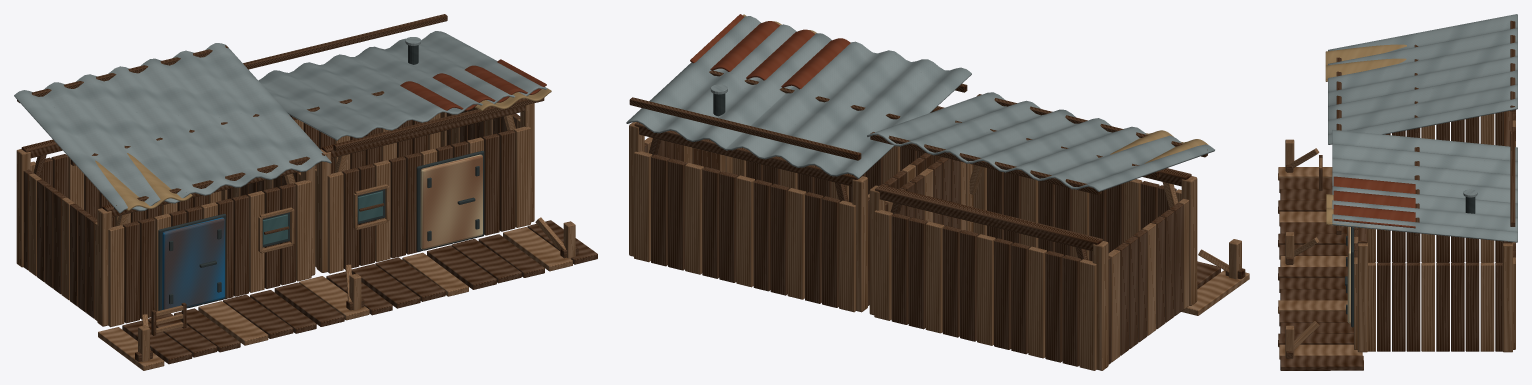
Rendered from scavenger_housing.glb.
3 renders of one model, left to right at view 1: azimuth 30°, elevation 25°; view 2: azimuth 150°, elevation 25°; view 3: azimuth 270°, elevation 25°, orthographic. The views are drawn at different scales.
Parts seen in each view (by area): view 1: Left cottage tall asymmetric sheet canopy, Right cottage low patched lean-to, Broad salvaged appliance door slab.001, Broad salvaged appliance door slab, Right cottage enamel roof patch, Cottage front reclaimed vertical board.024, Roof purlin beneath sheet overlap.005, Cottage front reclaimed vertical board, Cottage front reclaimed vertical board.013, Cottage front reclaimed vertical board.023, Cottage front reclaimed vertical board.008, Cottage front reclaimed vertical board.012 (+59 smaller); view 2: Right cottage low patched lean-to, Left cottage tall asymmetric sheet canopy, Right cottage enamel roof patch, Cottage wall header.001, Roof purlin beneath sheet overlap.005, Cottage wall header.003, Cottage rear reclaimed vertical board.004, Cottage rear reclaimed vertical board.009, Cottage rear reclaimed vertical board.011, Cottage rear reclaimed vertical board.017, Cottage rear reclaimed vertical board.020, Cottage rear reclaimed vertical board.018 (+52 smaller); view 3: Left cottage tall asymmetric sheet canopy, Right cottage low patched lean-to, Right cottage enamel roof patch, Left cottage faded canvas roof repair, Cottage side reclaimed vertical board.033, Cottage side reclaimed vertical board.037, Cottage side reclaimed vertical board.038, Shared porch reclaimed deck board.017, Cottage side reclaimed vertical board.034, Cottage side reclaimed vertical board.031, Cottage side reclaimed vertical board.032, Cottage side reclaimed vertical board.035 (+50 smaller).
Boxes of the visible parts, bbox=[...] form: Left cottage tall asymmetric sheet canopy: bbox=[14, 43, 331, 213]; Right cottage low patched lean-to: bbox=[258, 31, 547, 140]; Broad salvaged appliance door slab.001: bbox=[420, 154, 482, 249]; Broad salvaged appliance door slab: bbox=[162, 217, 224, 309]; Right cottage enamel roof patch: bbox=[400, 59, 546, 112]; Cottage front reclaimed vertical board.024: bbox=[498, 130, 515, 231]; Roof purlin beneath sheet overlap.005: bbox=[243, 14, 447, 69]; Cottage front reclaimed vertical board: bbox=[108, 225, 124, 327]; Cottage front reclaimed vertical board.013: bbox=[327, 171, 343, 273]; Cottage front reclaimed vertical board.023: bbox=[482, 133, 499, 235]; Cottage front reclaimed vertical board.008: bbox=[232, 194, 248, 296]; Cottage front reclaimed vertical board.012: bbox=[294, 180, 311, 281]; Right cottage low patched lean-to: bbox=[626, 16, 971, 178]; Left cottage tall asymmetric sheet canopy: bbox=[867, 92, 1214, 191]; Right cottage enamel roof patch: bbox=[690, 14, 850, 89]; Cottage wall header.001: bbox=[875, 185, 1102, 251]; Roof purlin beneath sheet overlap.005: bbox=[629, 97, 861, 160]; Cottage wall header.003: bbox=[634, 122, 862, 186]; Cottage rear reclaimed vertical board.004: bbox=[1011, 242, 1029, 354]; Cottage rear reclaimed vertical board.009: bbox=[925, 221, 944, 333]; Cottage rear reclaimed vertical board.011: bbox=[891, 213, 910, 324]; Cottage rear reclaimed vertical board.017: bbox=[770, 183, 789, 295]; Cottage rear reclaimed vertical board.020: bbox=[719, 171, 737, 282]; Cottage rear reclaimed vertical board.018: bbox=[753, 179, 772, 291]; Left cottage tall asymmetric sheet canopy: bbox=[1328, 14, 1517, 144]; Right cottage low patched lean-to: bbox=[1332, 130, 1517, 242]; Right cottage enamel roof patch: bbox=[1333, 176, 1415, 228]; Left cottage faded canvas roof repair: bbox=[1325, 44, 1406, 81]; Cottage side reclaimed vertical board.033: bbox=[1406, 262, 1420, 351]; Cottage side reclaimed vertical board.037: bbox=[1465, 262, 1479, 351]; Cottage side reclaimed vertical board.038: bbox=[1480, 262, 1494, 351]; Shared porch reclaimed deck board.017: bbox=[1280, 355, 1363, 370]; Cottage side reclaimed vertical board.034: bbox=[1421, 262, 1434, 351]; Cottage side reclaimed vertical board.031: bbox=[1377, 262, 1390, 351]; Cottage side reclaimed vertical board.032: bbox=[1392, 262, 1405, 351]; Cottage side reclaimed vertical board.035: bbox=[1436, 262, 1449, 351].
Size of the model in its own units: 17.27 by 6.57 by 8.76.
9 materials, 9 textured.
